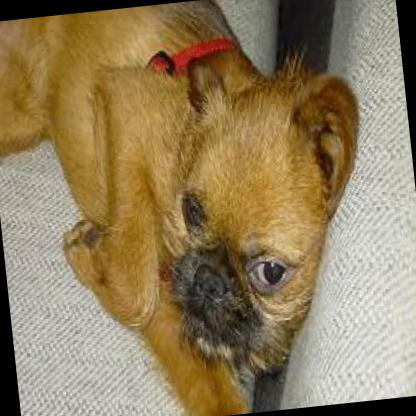Brabancon_griffon: (0, 0, 383, 416)
